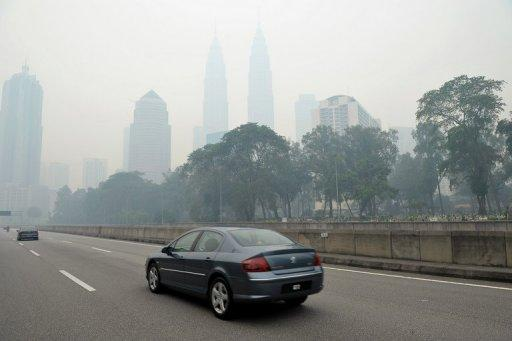car: (142, 224, 327, 320), (16, 225, 40, 240)
